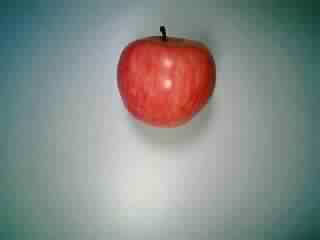apple: (114, 26, 218, 127)
